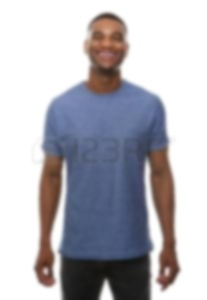arm: (24, 102, 63, 243), (151, 95, 184, 241)
chest: (64, 95, 148, 259)
face: (83, 9, 135, 66)
hand: (30, 242, 56, 286), (160, 241, 180, 288)
leg: (104, 259, 153, 299), (60, 260, 102, 300)
neck: (83, 67, 129, 93)
